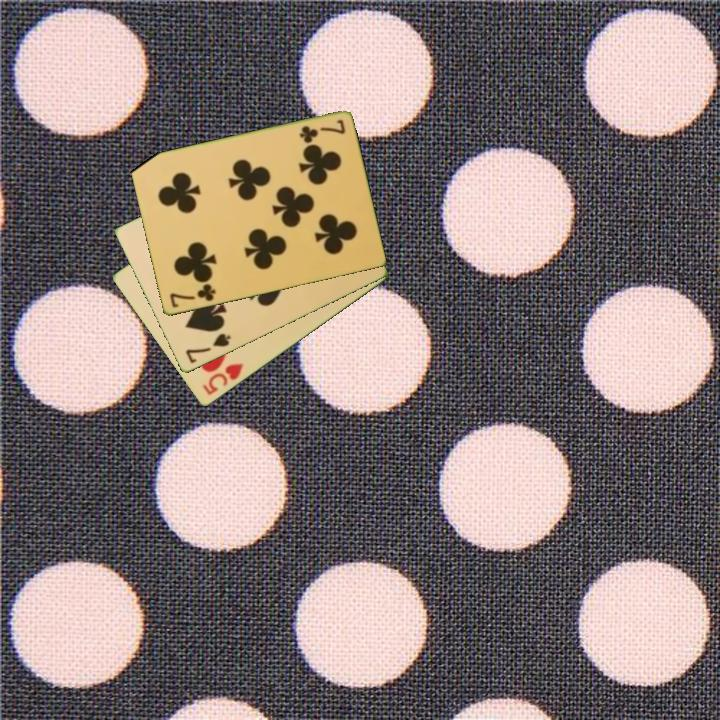5h: (199, 360, 246, 399)
7c: (166, 280, 219, 311), (296, 116, 348, 146)
7s: (182, 330, 234, 366)
